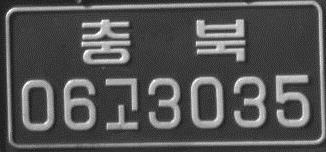0: (188, 73, 226, 134), (19, 76, 58, 134)
3: (146, 74, 181, 132), (233, 71, 266, 132)
5: (271, 71, 311, 129)
6: (61, 74, 96, 130)
고: (102, 72, 139, 129)
충북_D: (78, 14, 247, 70)
